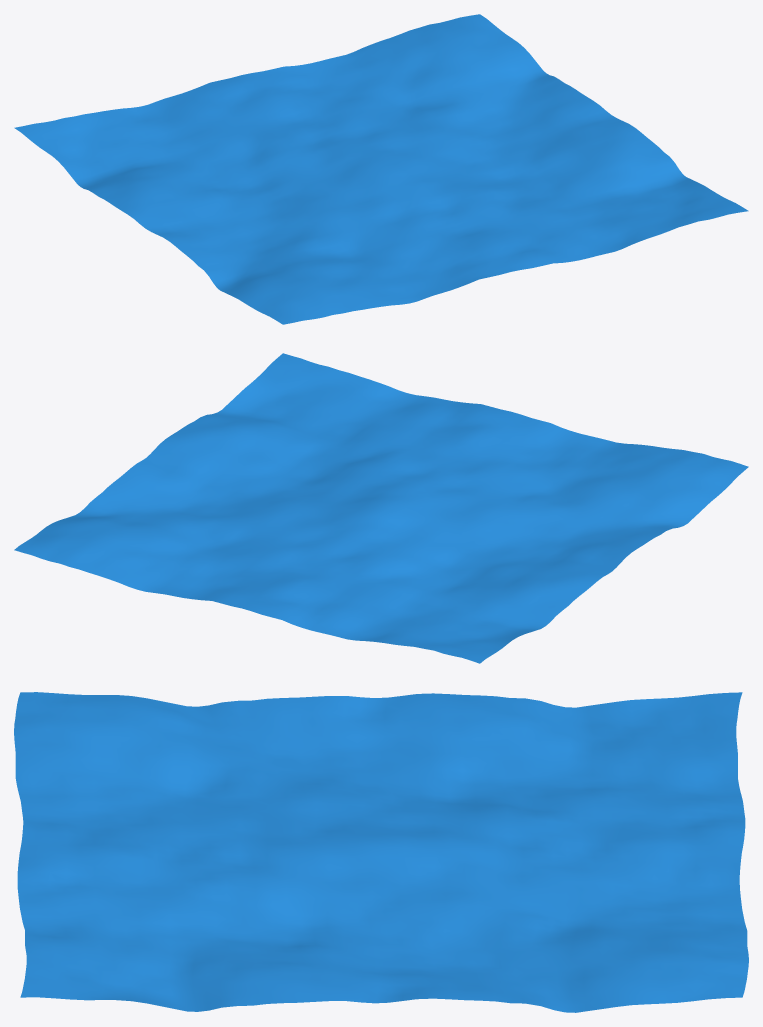
Rendered from Ocean03.fbx.
3 views of the same model, one above another, from view 1: azimuth 30°, elevation 25°; view 2: azimuth 150°, elevation 25°; view 3: azimuth 270°, elevation 25° (orthographic). The views are drawn at different scales.
Parts seen in each view (by area): view 1: ocean6; view 2: ocean6; view 3: ocean6.
Boxes of the visible parts, <box> form: ocean6: <box>14,14,748,324</box>; ocean6: <box>14,353,748,663</box>; ocean6: <box>14,692,748,1012</box>.
Bounding box in the file's own units: 33.58 × 1.09 × 33.71.
